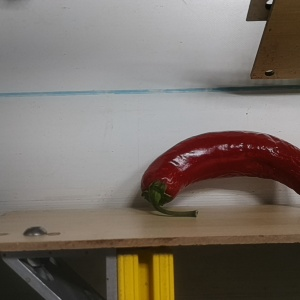Cut Point: (139, 174, 178, 209)
